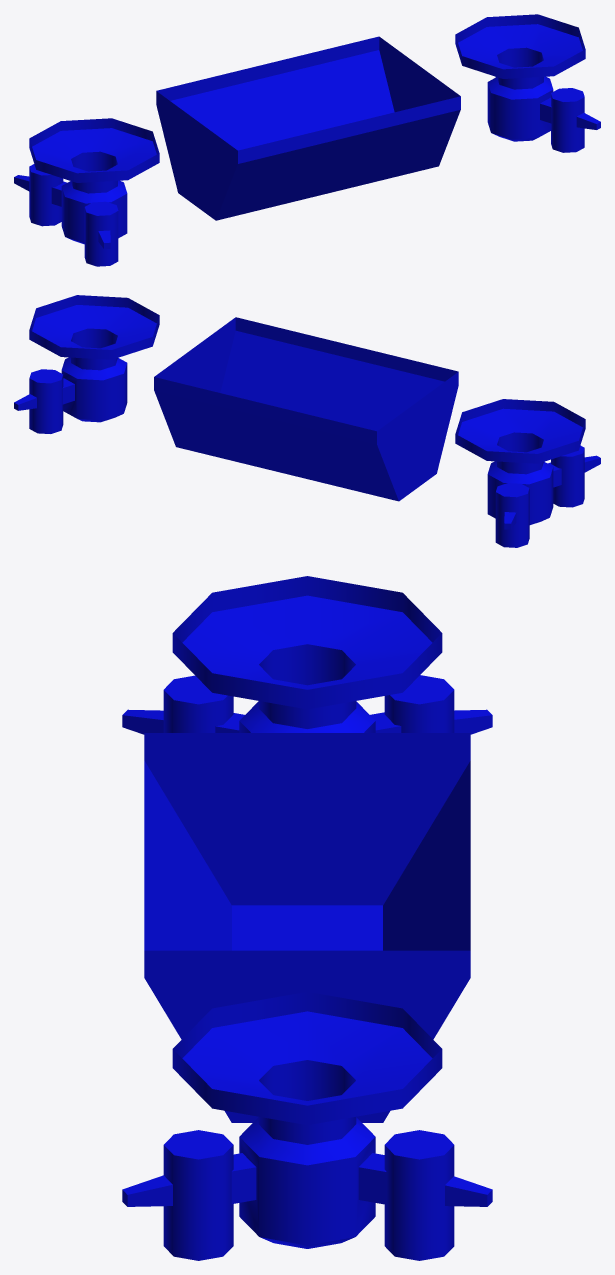
Rendered from GasTaps.FBX.
3 renders of one model, top to bottom at view 1: azimuth 30°, elevation 25°; view 2: azimuth 150°, elevation 25°; view 3: azimuth 270°, elevation 25°, orthographic. The views are drawn at different scales.
Parts seen in each view (by area): view 1: GassTaps; view 2: GassTaps; view 3: GassTaps.
Part boxes in pixels (x1=…): GassTaps: x1=14, y1=14, x2=600, y2=266; GassTaps: x1=14, y1=295, x2=600, y2=547; GassTaps: x1=122, y1=576, x2=492, y2=1260.
Size of the model in its own units: 8.11 by 1.29 by 2.4.
